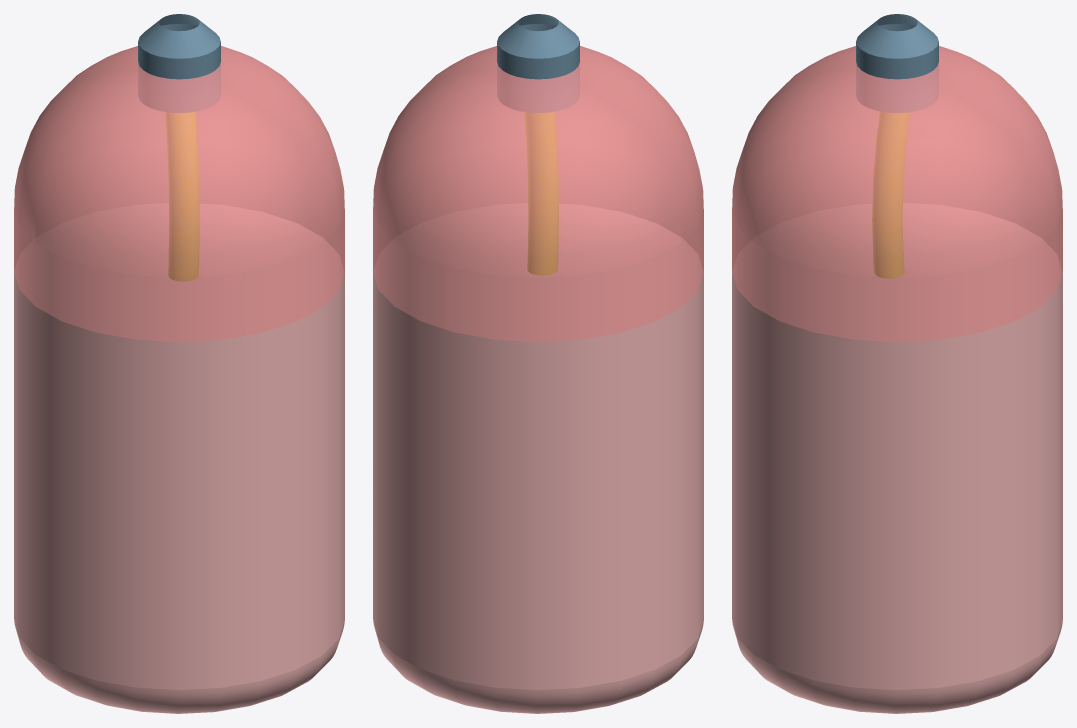
Rendered from original-1.obj.
3 renders of one model, left to right at view 1: azimuth 30°, elevation 25°; view 2: azimuth 150°, elevation 25°; view 3: azimuth 270°, elevation 25°, orthographic.
Parts seen in each view (by area): view 1: mesh1/mesh1-geometry#mesh1-geometry; view 2: mesh1/mesh1-geometry#mesh1-geometry; view 3: mesh1/mesh1-geometry#mesh1-geometry.
Boxes of the visible parts, x1=… form: mesh1/mesh1-geometry#mesh1-geometry: x1=14, y1=14, x2=344, y2=713; mesh1/mesh1-geometry#mesh1-geometry: x1=373, y1=14, x2=703, y2=713; mesh1/mesh1-geometry#mesh1-geometry: x1=732, y1=14, x2=1062, y2=713.
Bounding box in the file's own units: 0.6934 × 1.47 × 0.6934.
